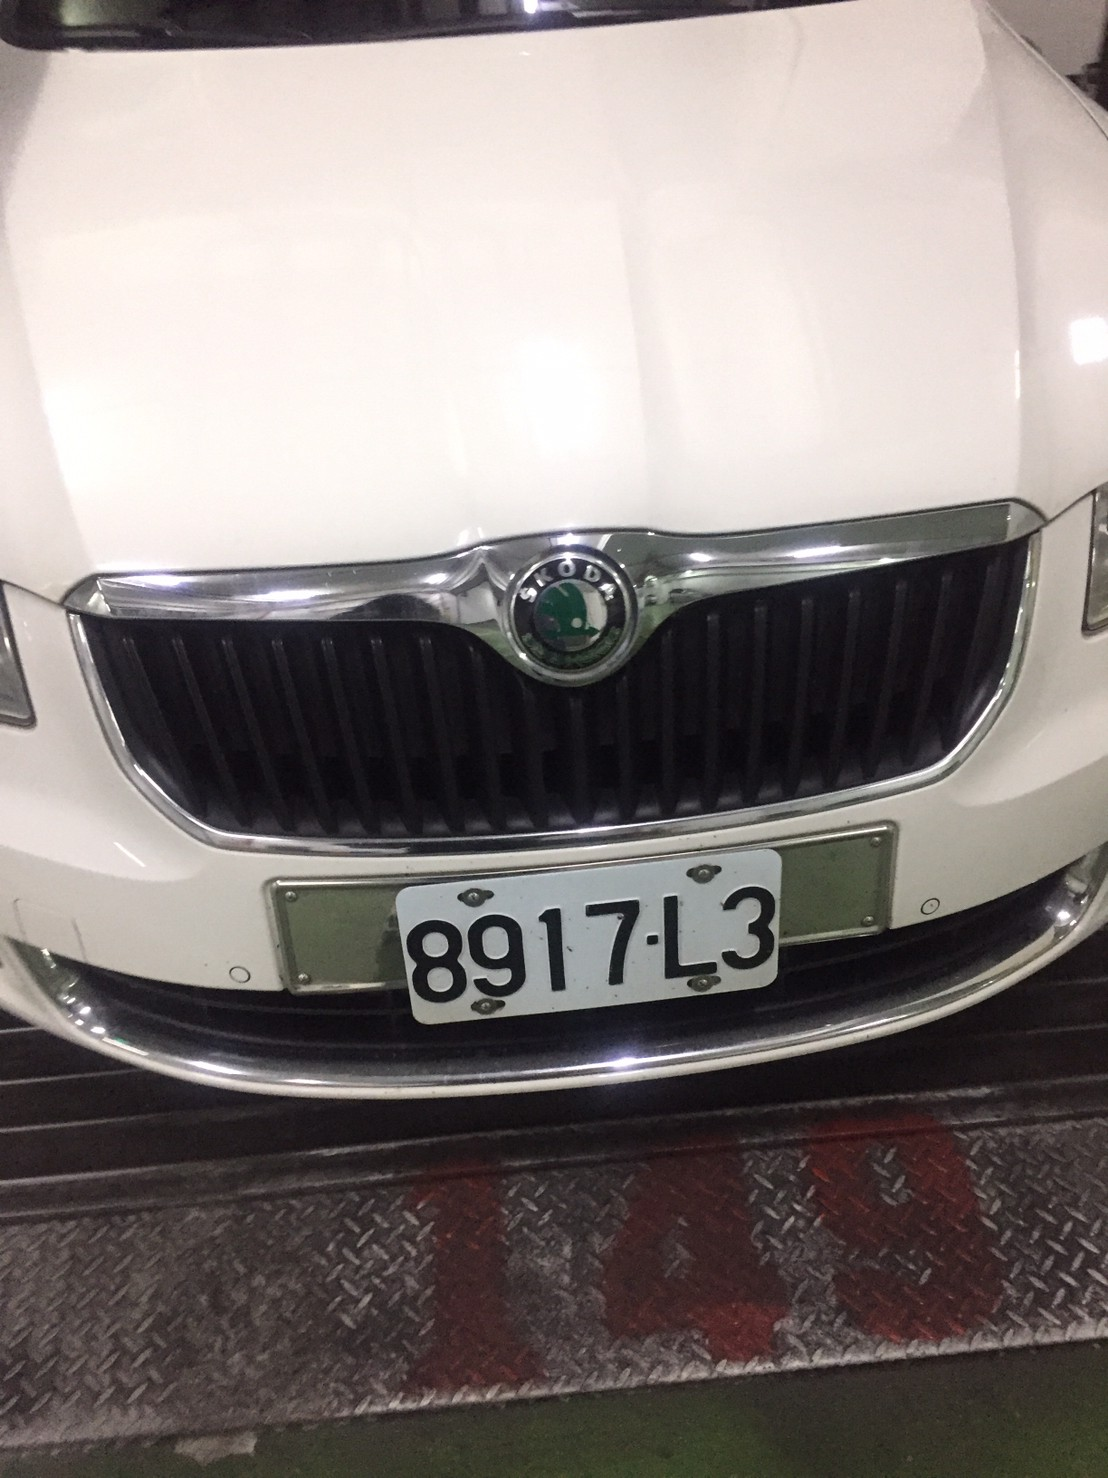LP: (390, 862, 788, 1019)
